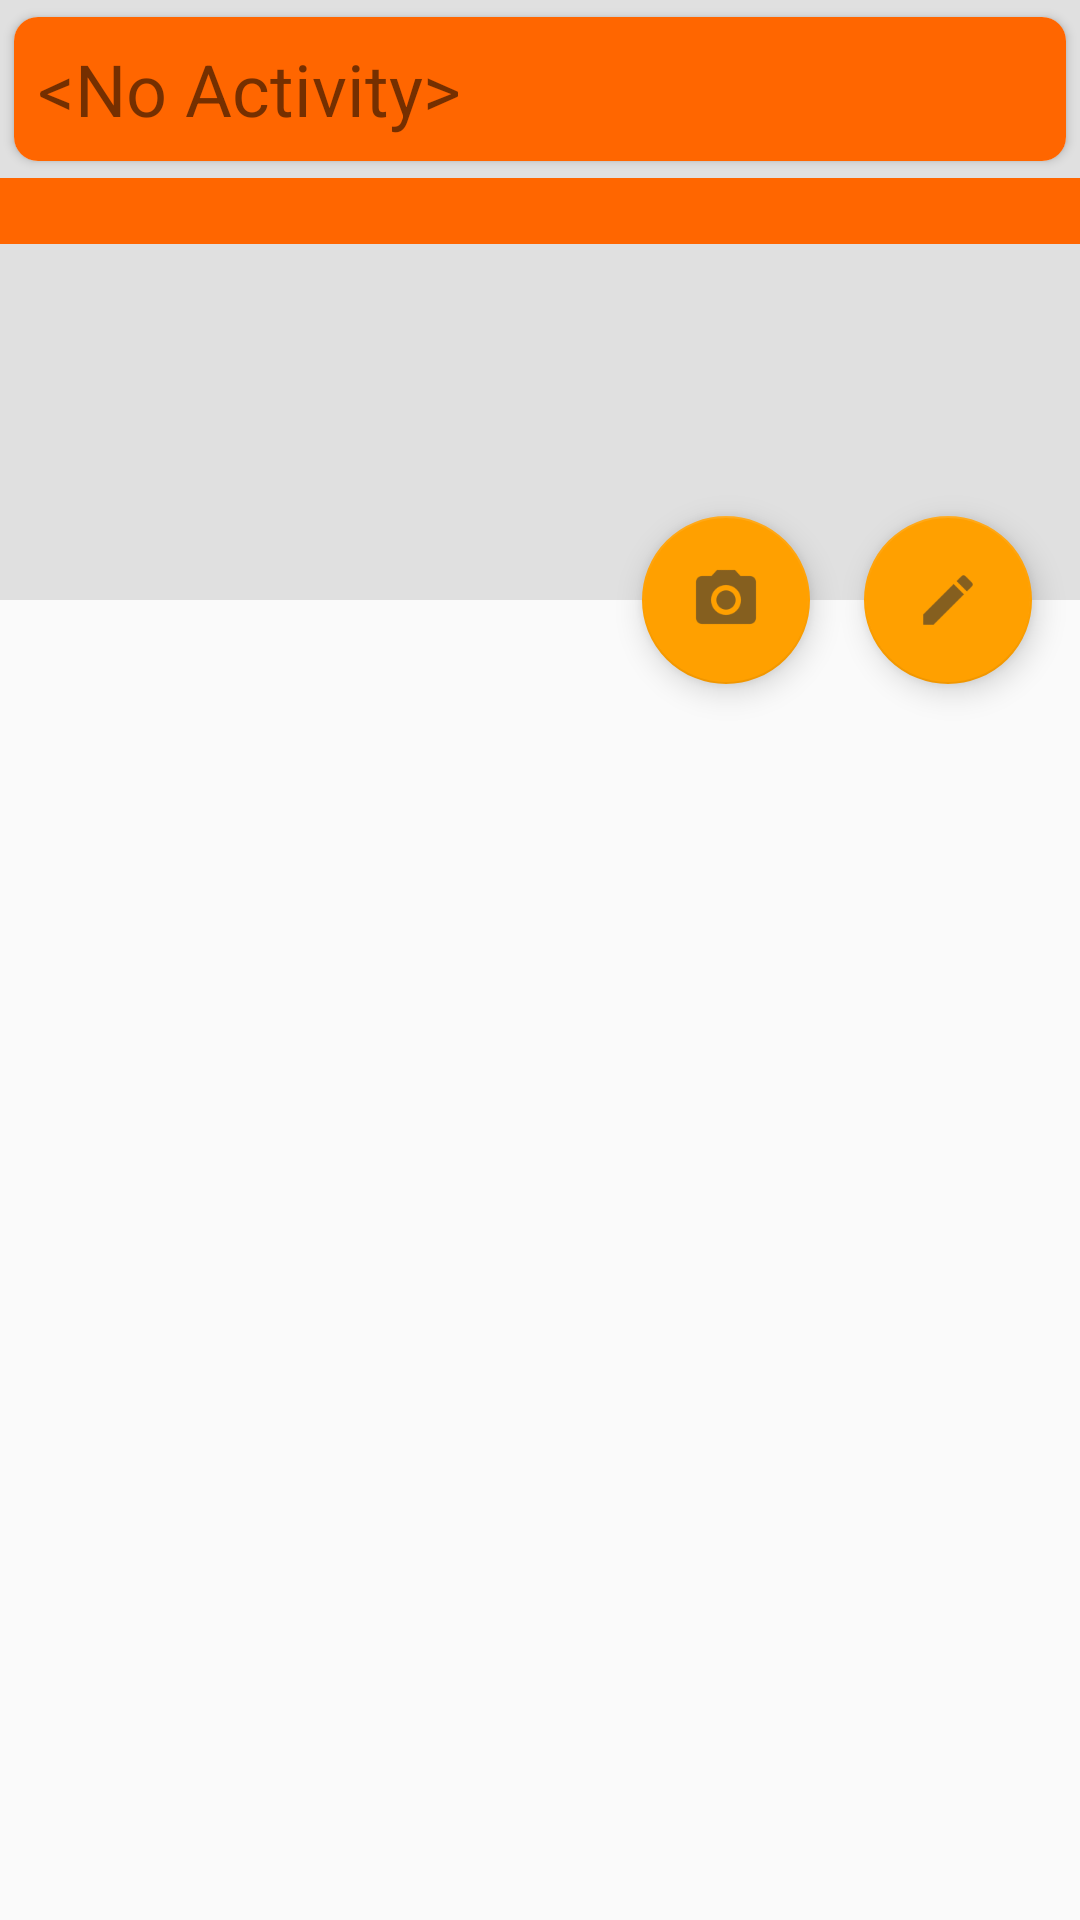

Screen size 1080×1920. Icon name, then its box in pixels as detection(x1, y1, x2, y2):
add note: detection(864, 516, 1032, 684)
